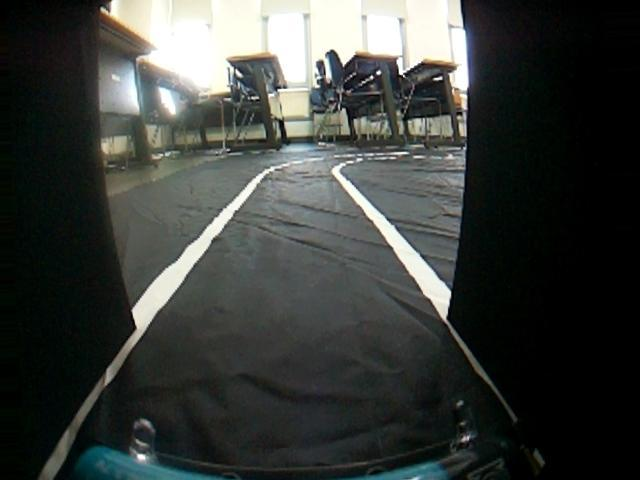straight: (3, 137, 640, 480)
